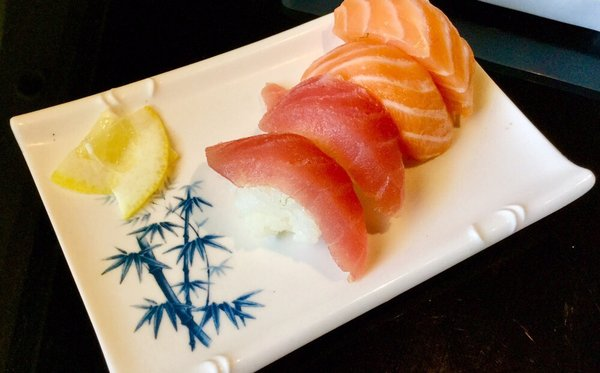taco: (295, 0, 475, 164), (295, 41, 459, 164)
